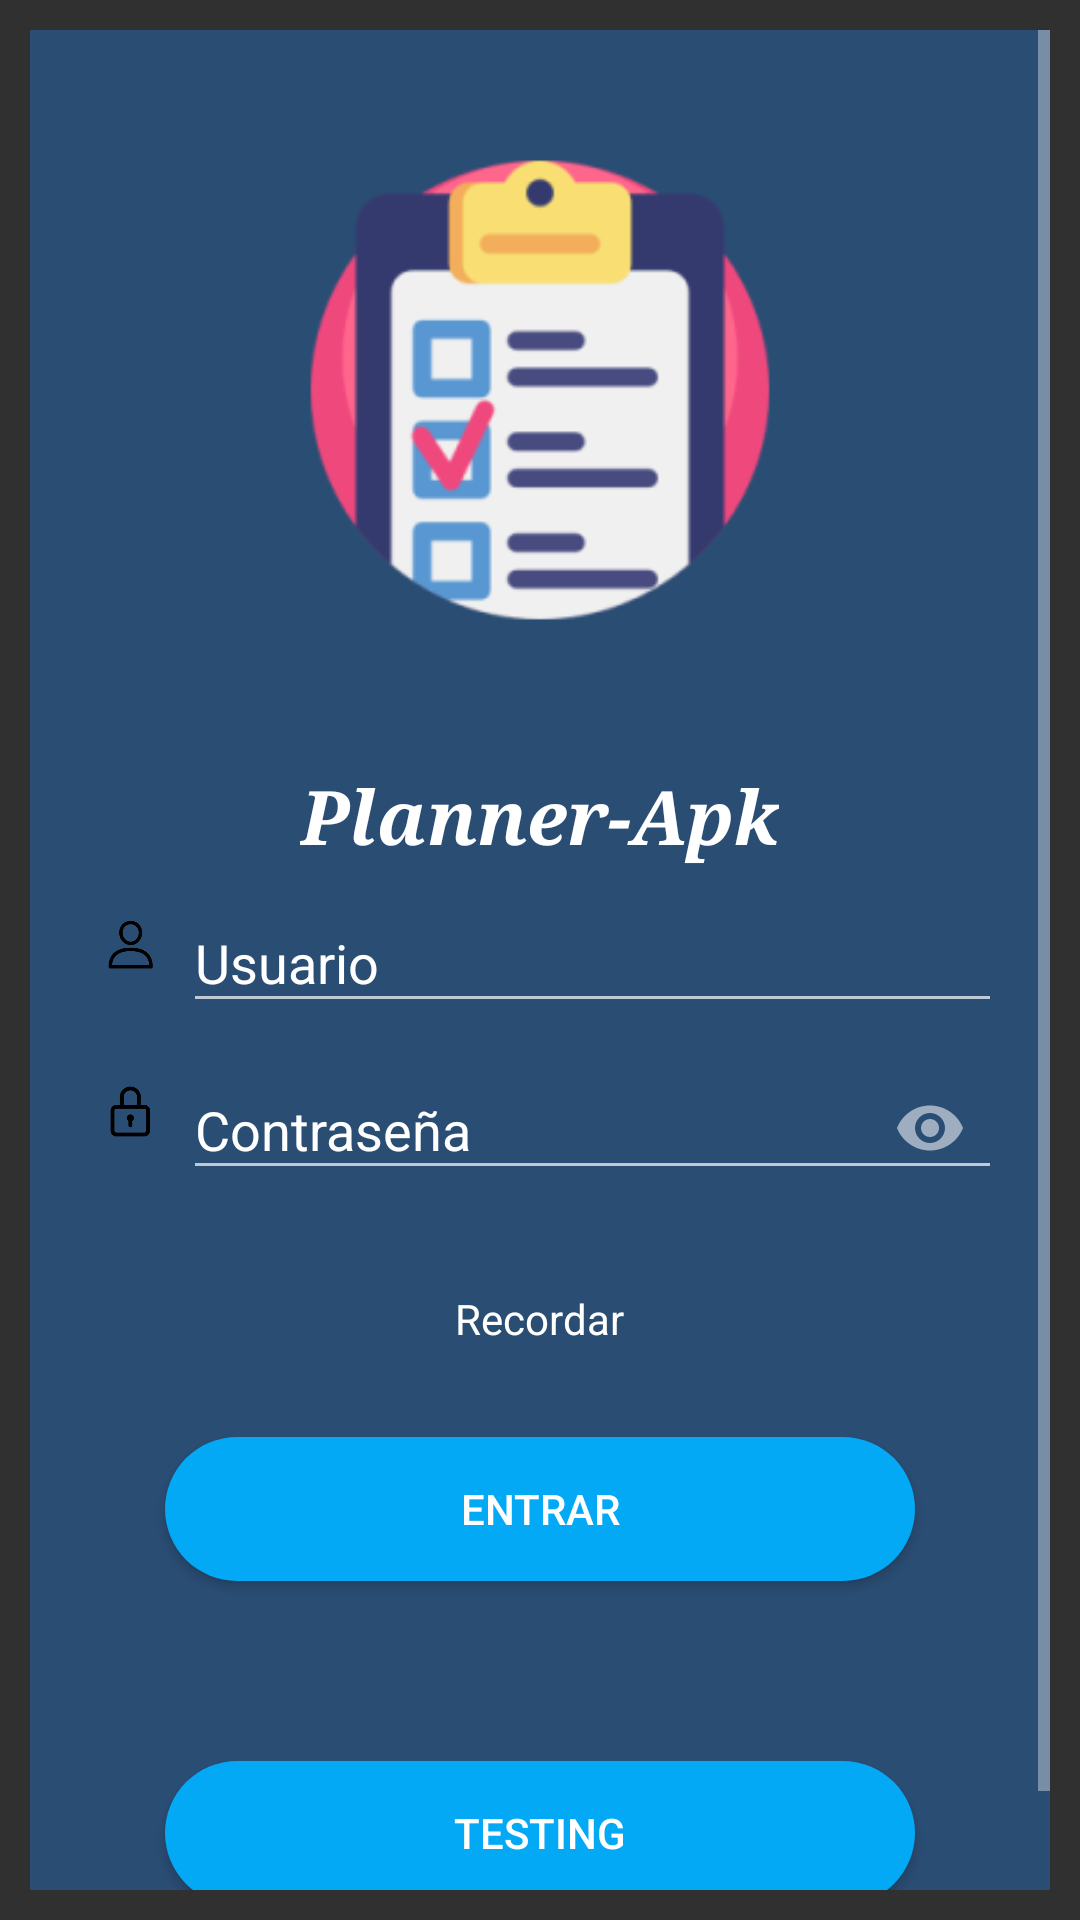

Icon click points for this 1080px x 1920px phone screenshot, format point (x, y):
lock: point (130, 1111)
user: point (130, 945)
